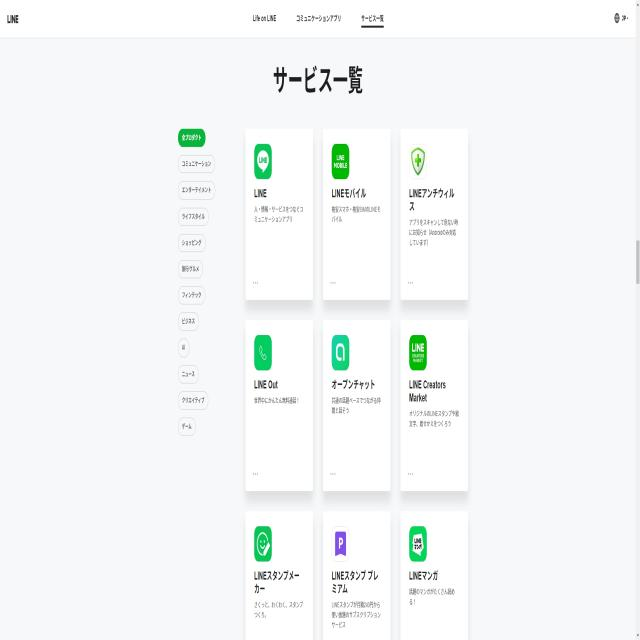menu-bar: (243, 1, 390, 37)
menu-panel: (175, 113, 235, 444)
